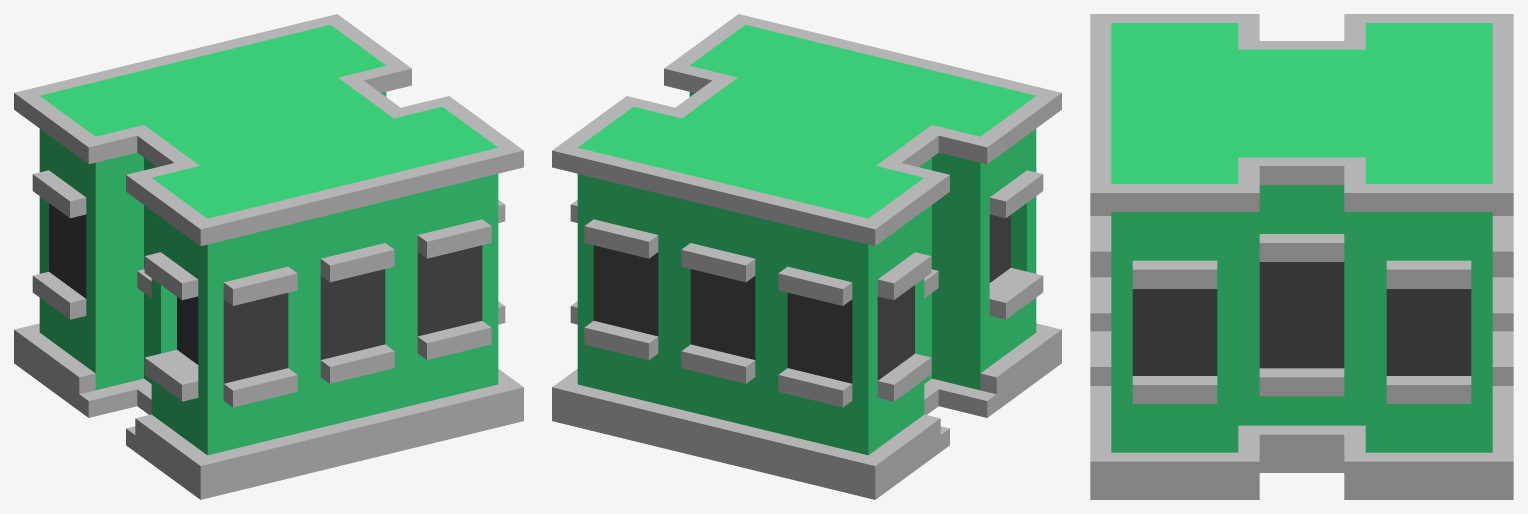
The model's file is cars-8-GreenBuilding.obj.
3 views of the same model, side by side, from view 1: azimuth 30°, elevation 25°; view 2: azimuth 150°, elevation 25°; view 3: azimuth 270°, elevation 25° (orthographic). The views are drawn at different scales.
Visible parts, largest first — view 1: GreenBuilding; view 2: GreenBuilding; view 3: GreenBuilding.
Boxes of the visible parts, left/top/right/bottom form: GreenBuilding: left=14, top=14, right=523, bottom=499; GreenBuilding: left=552, top=14, right=1061, bottom=499; GreenBuilding: left=1090, top=14, right=1513, bottom=499.
Bounding box in the file's own units: 2 × 1.6 × 2.
Materials: 1 (1 with a texture image).
